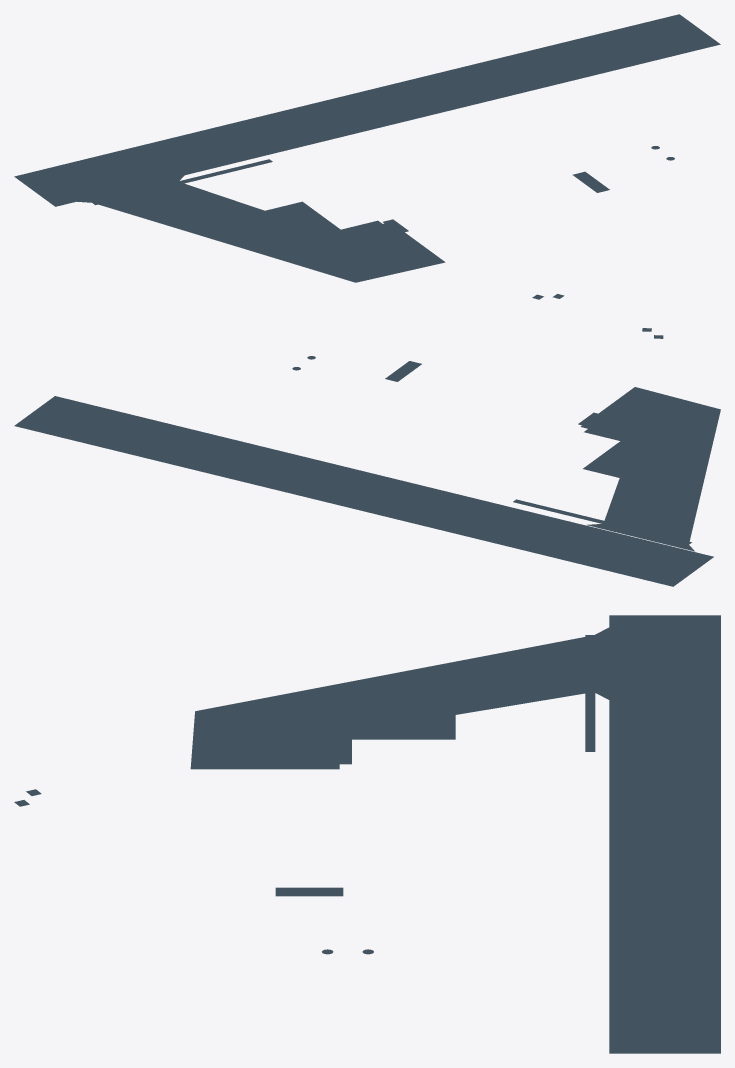
File: filament-rain.glb
3 renders of one model, top to bottom at view 1: azimuth 30°, elevation 25°; view 2: azimuth 150°, elevation 25°; view 3: azimuth 270°, elevation 25°, orthographic. The views are drawn at different scales.
Parts seen in each view (by area): view 1: lab-filament-wet; view 2: lab-filament-wet; view 3: lab-filament-wet.
Boxes of the visible parts, bbox=[...] form: lab-filament-wet: bbox=[14, 14, 720, 299]; lab-filament-wet: bbox=[14, 328, 720, 586]; lab-filament-wet: bbox=[14, 615, 720, 1053].
Size of what is drawn, in the model's own units: 51 by 0.207 by 34.78.
